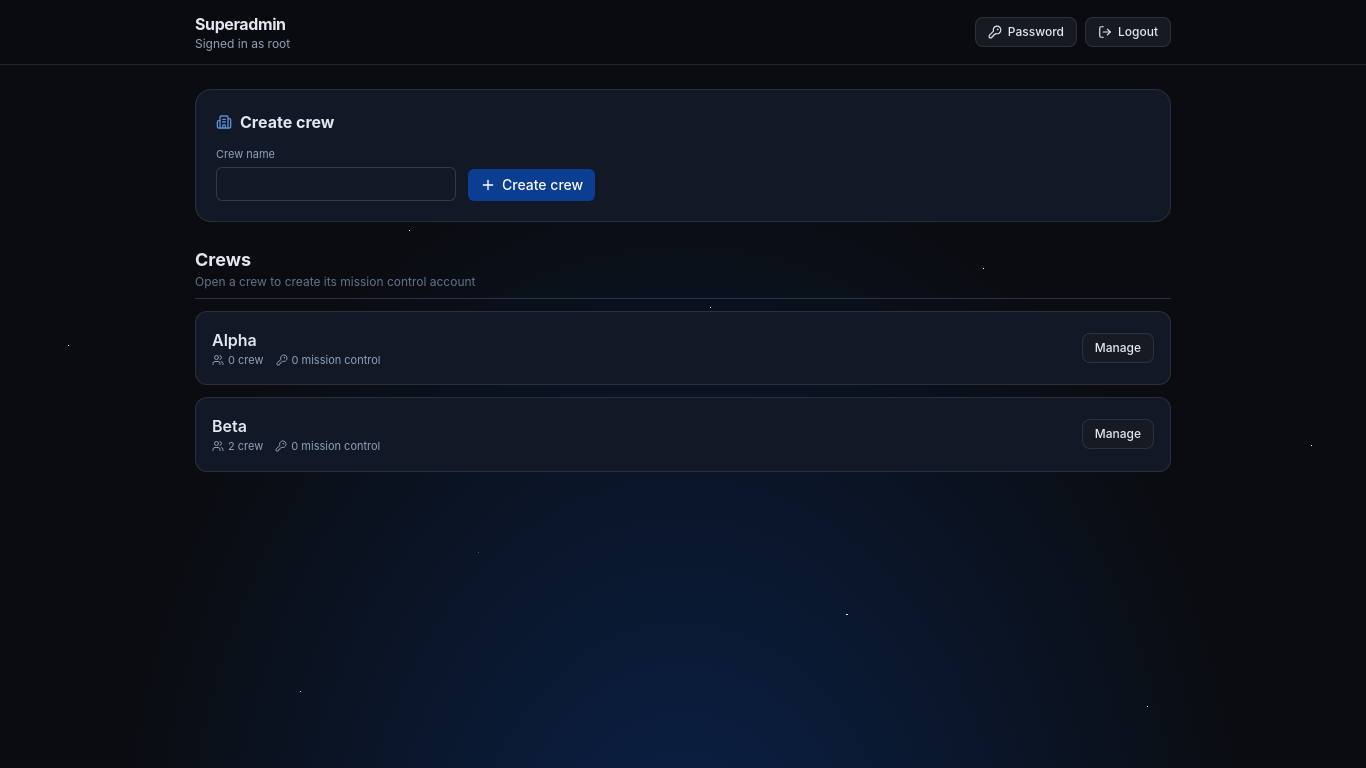
Scenario: SuperadminPage › offers delete only for an empty crew
Click the button "Manage" in the row of "Alpha" at (1118, 348), box [1082, 333, 1154, 363]
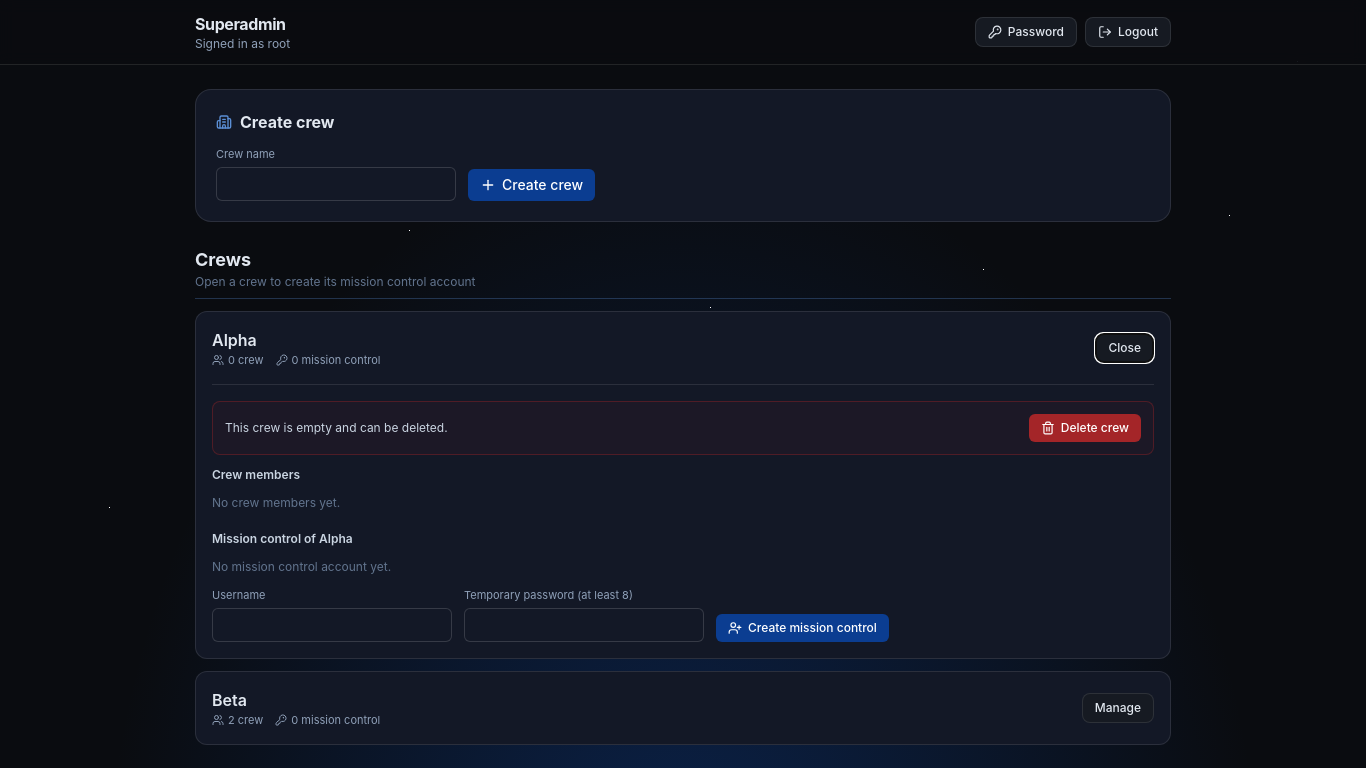
Now the button "Delete crew" is enabled, box [1029, 414, 1141, 442]
